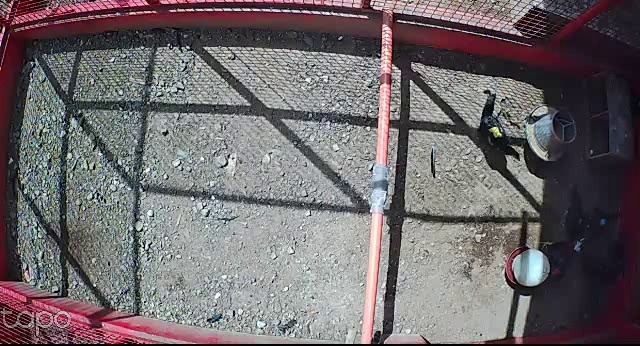Chicken: (474, 91, 526, 163)
Drinker: (505, 245, 550, 290)
Feeder: (521, 103, 581, 163)
Rooster: (534, 235, 590, 282)
Saddle_Color_Yellow: (489, 126, 502, 140)
